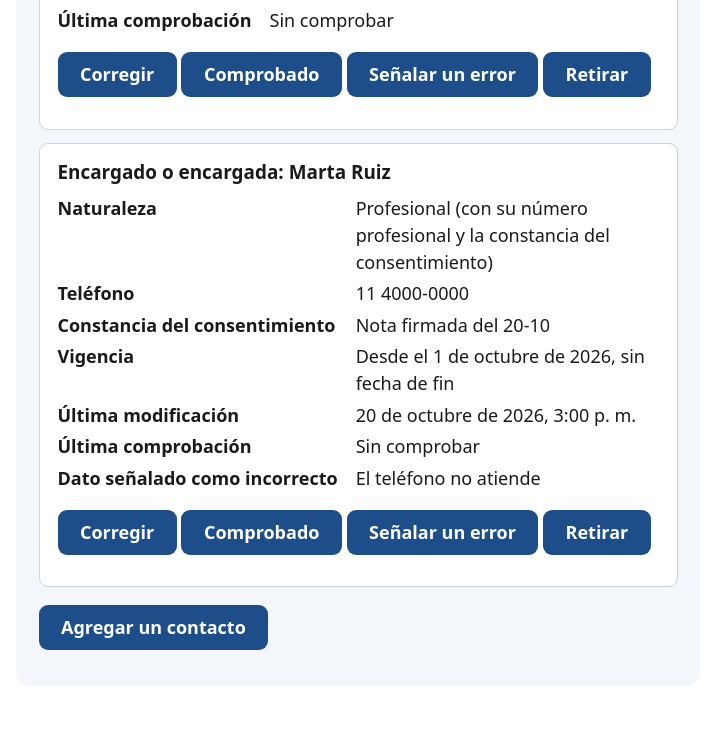
Test: página /contactos/gestion › un profesional pide la constancia y el teléfono; otra naturaleza manda la constancia nula
This screenshot has width=717, height=740.
(page scrolled)
Click the button "Agregar un contacto": (153, 628) [38,606,268,650]
(page scrolled)
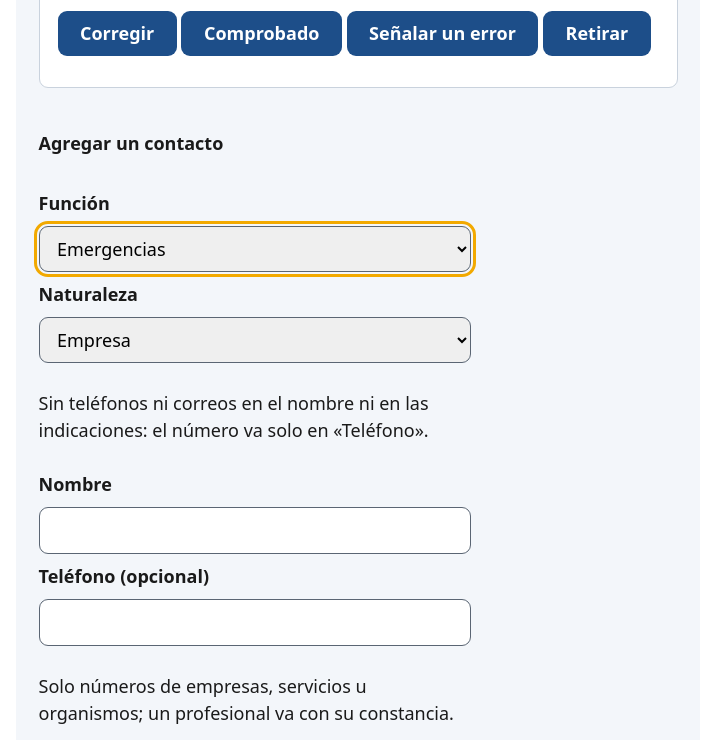
Select "Profesional (con su número profesional y la constancia del consentimiento)" in the dropdown labelled "Naturaleza": (254, 340) [38,317,470,363]
(page scrolled)
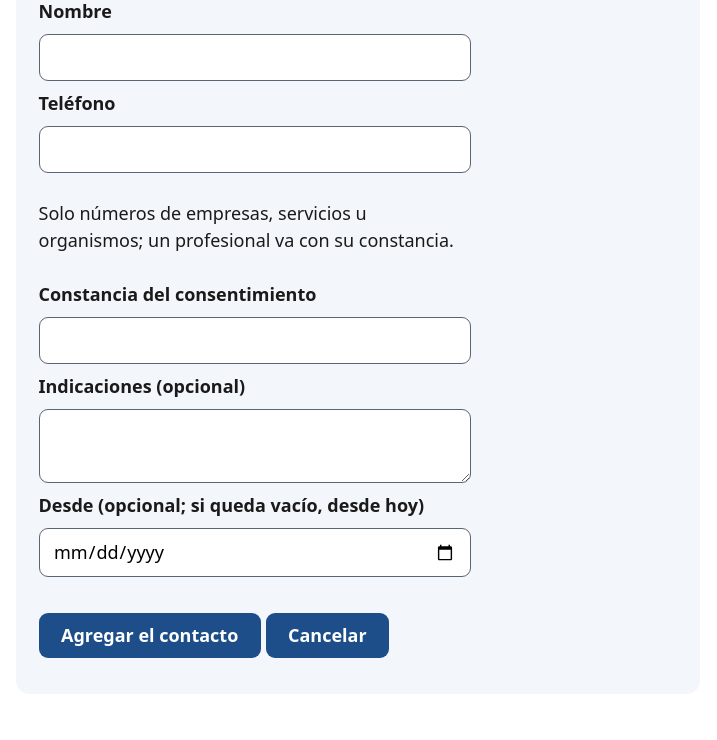
Expected: the field labelled "Teléfono" has attribute required, [38,126,470,173]
In the field labelled "Constancia del consentimiento": (254, 341) [38,317,470,364], type "Nota firmada del 20-10"
(page scrolled)
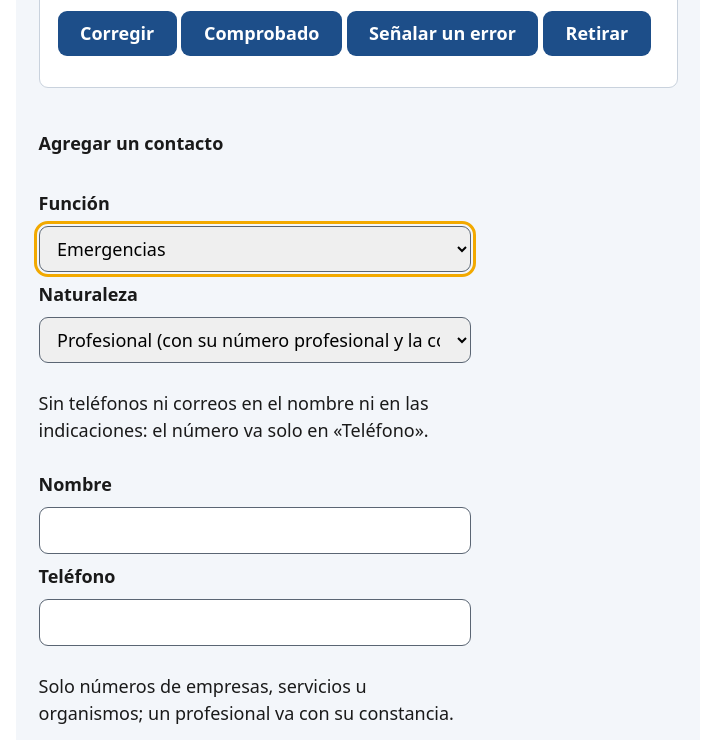
Select "Organismo" in the dropdown labelled "Naturaleza": (254, 340) [38,317,470,363]
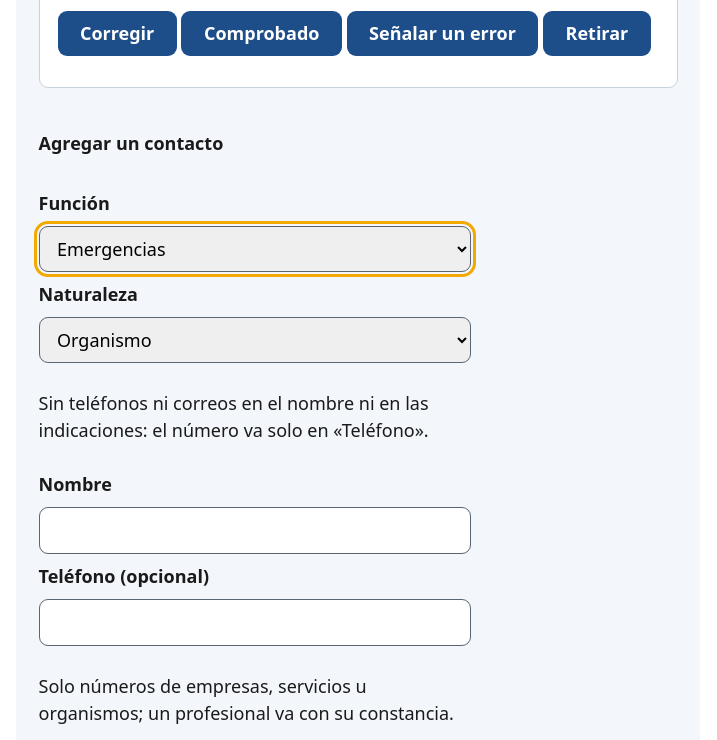
Expected: the field labelled "Constancia del consentimiento" is not shown
In the field labelled "Nombre": (254, 531) [38,507,470,554], type "Bomberos"
In the field labelled "Teléfono (opcional)": (254, 623) [38,599,470,646], type "100"
(page scrolled)
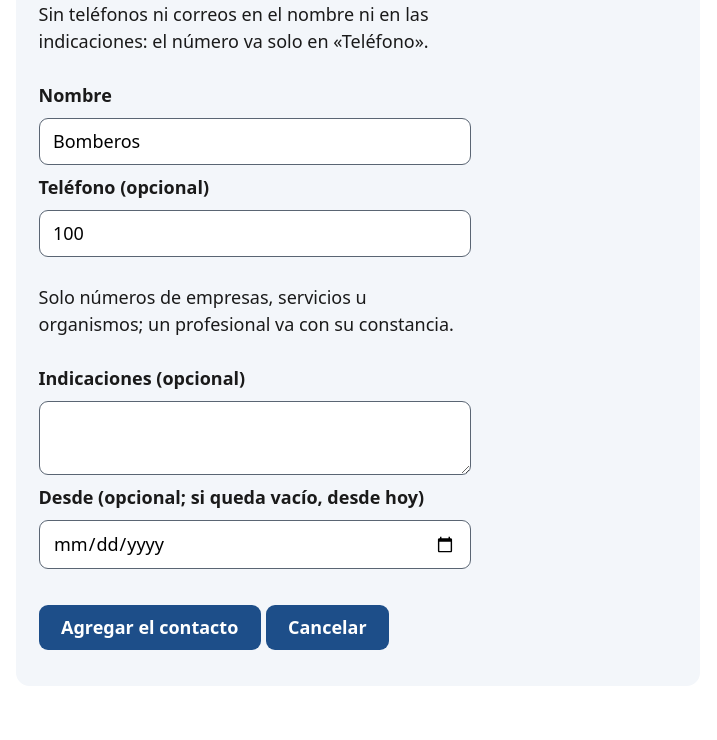
Click the button "Agregar el contacto": (150, 628) [38,605,261,650]
(page scrolled)
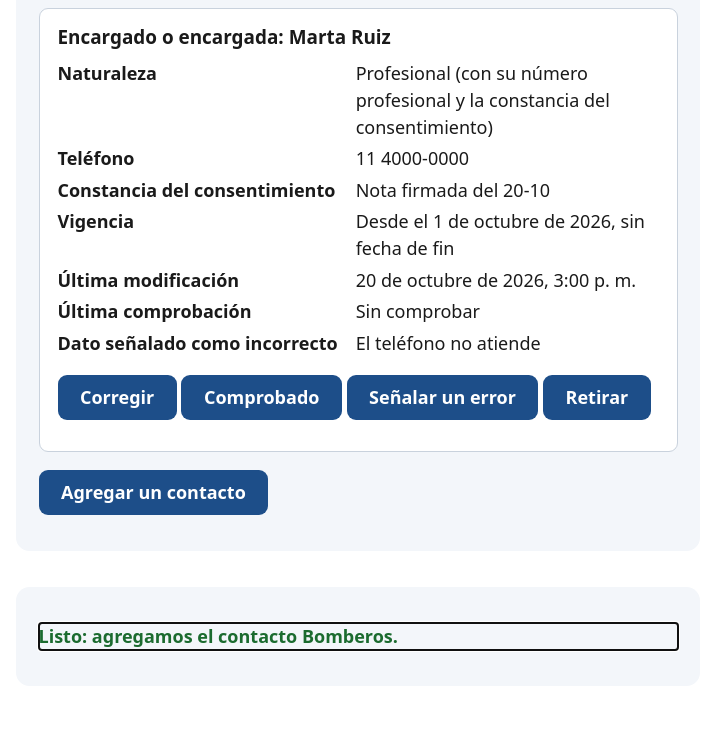
Expected: the text "Listo: agregamos el contacto Bomberos." is shown, [38,624,398,648]
